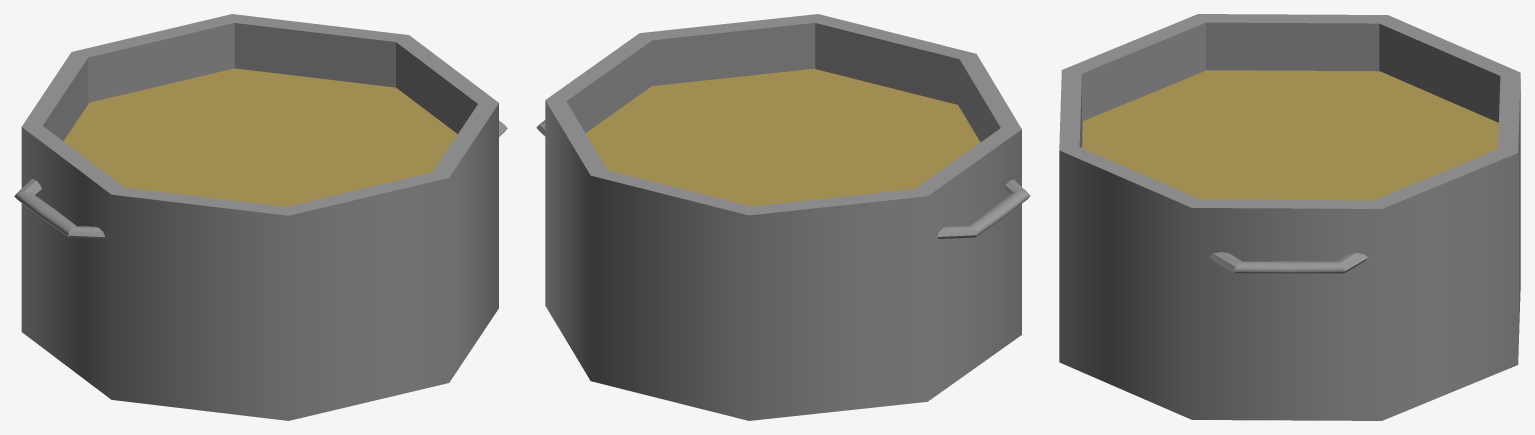
File: CacerolaJonathanSopa5pm.FBX
The picture shows the model from 3 angles, left to right: view 1: azimuth 30°, elevation 25°; view 2: azimuth 150°, elevation 25°; view 3: azimuth 270°, elevation 25°; orthographic projection. The views are drawn at different scales.
Visible parts, largest first — view 1: CacerolaJonathanSopa5pm; view 2: CacerolaJonathanSopa5pm; view 3: CacerolaJonathanSopa5pm.
Boxes of the visible parts, box(x1,y1,x2,y2) form: CacerolaJonathanSopa5pm: box(14, 14, 507, 420); CacerolaJonathanSopa5pm: box(536, 14, 1030, 420); CacerolaJonathanSopa5pm: box(1059, 14, 1520, 420).
Size of the model in its own units: 0.4511 by 0.2003 by 0.3951.
